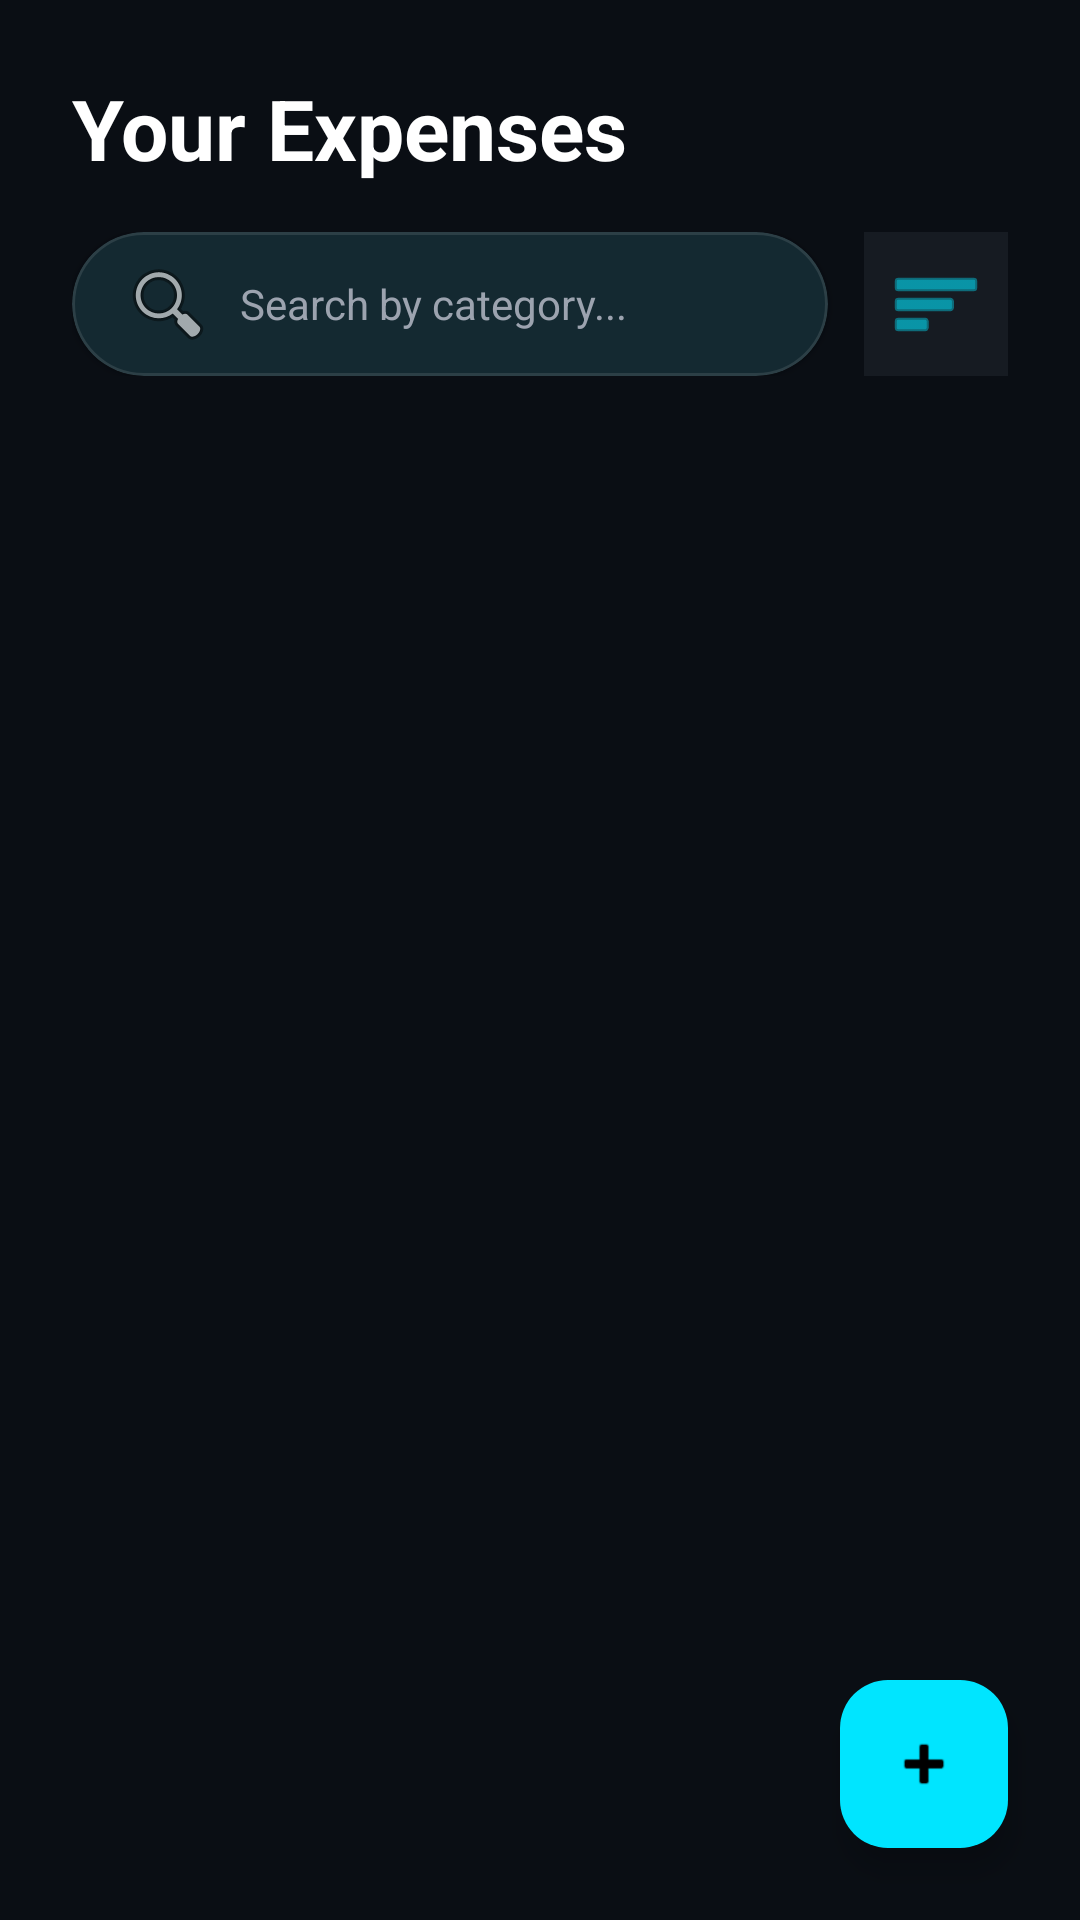

Named icons in this screenshot (1080px×1920px) and their bounding boxes, box(x1, y1, x2, y2):
add: box(840, 1680, 1008, 1848)
sort by size: box(894, 277, 978, 332)
